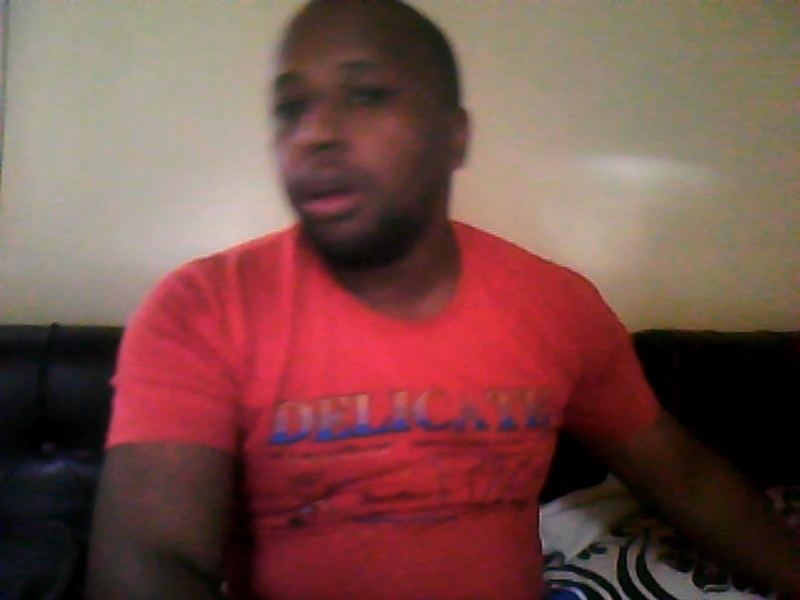TsisyArotava: (253, 7, 488, 274)
